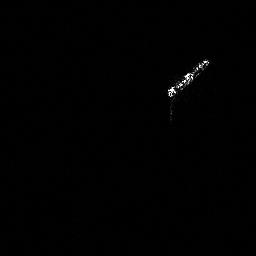ship: (163, 57, 212, 99)
